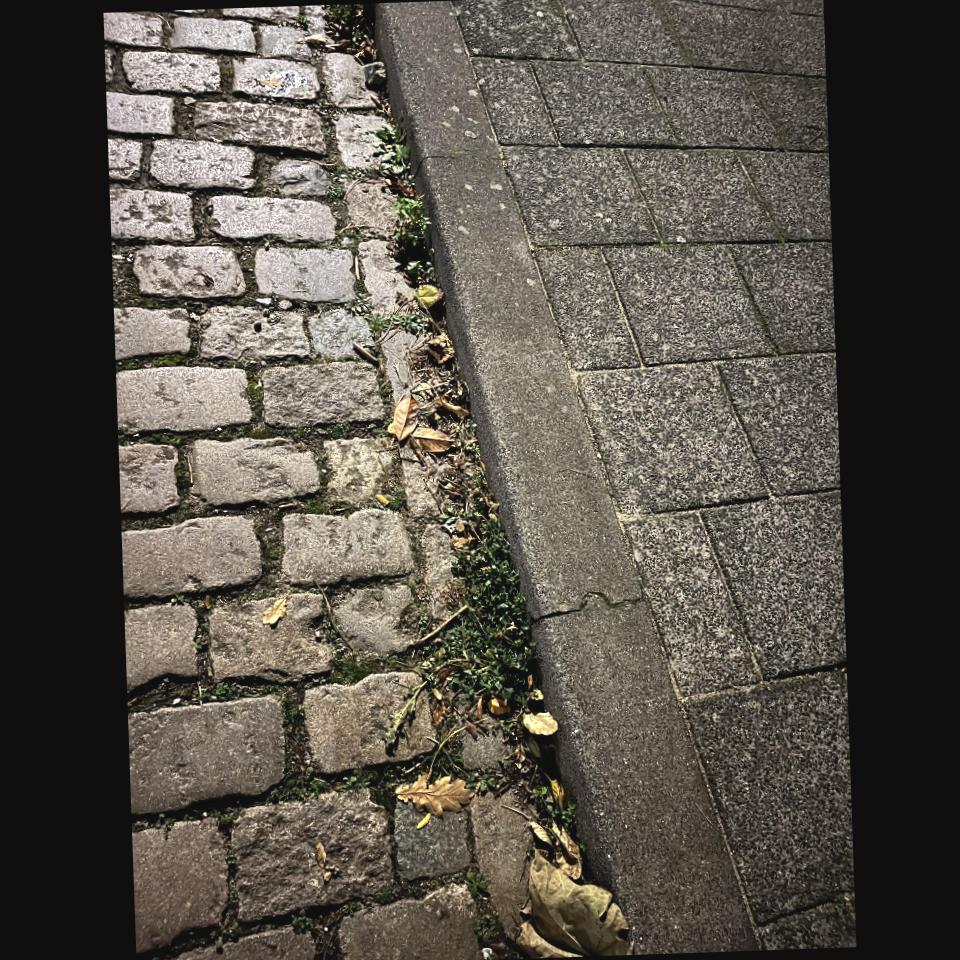weed: (415, 441, 541, 722), (379, 134, 434, 292)
